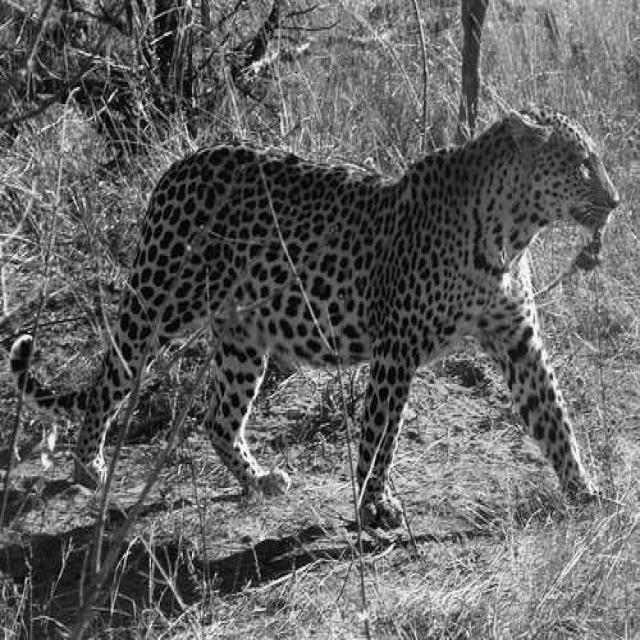Leopard: (8, 102, 620, 532)
